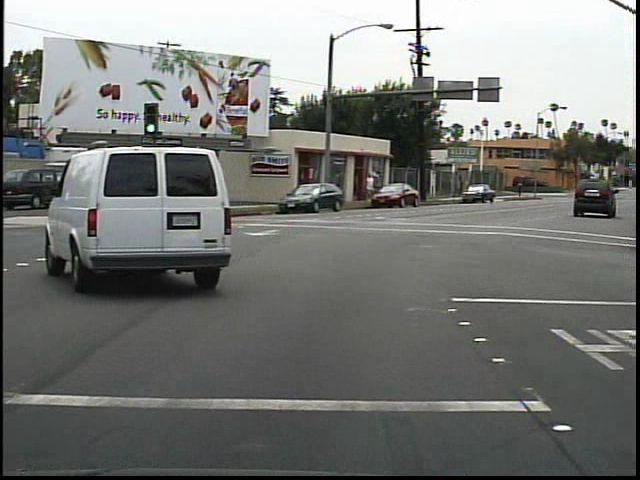person: (360, 171, 376, 207), (514, 177, 526, 200)
